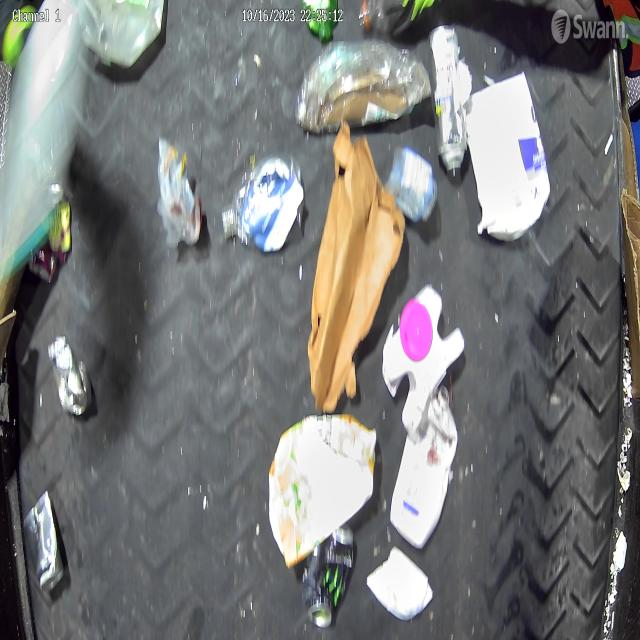can: (429, 23, 467, 175), (302, 522, 354, 628), (24, 490, 65, 596), (49, 336, 93, 418)
milk_jug: (389, 384, 458, 550)
non_white_jug: (268, 413, 378, 569)
plastic_bottle: (222, 154, 306, 253)
